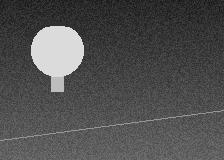no_helmet: (31, 22, 83, 81)
